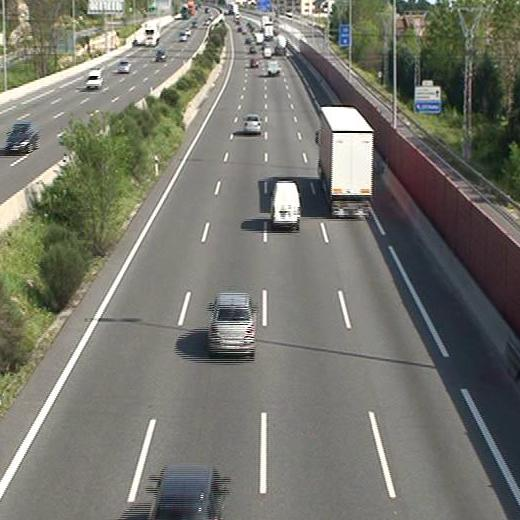car: (208, 294, 255, 353), (244, 114, 261, 132), (249, 58, 259, 66)
truck: (318, 106, 373, 216)
van: (270, 181, 300, 227), (266, 60, 279, 75)
